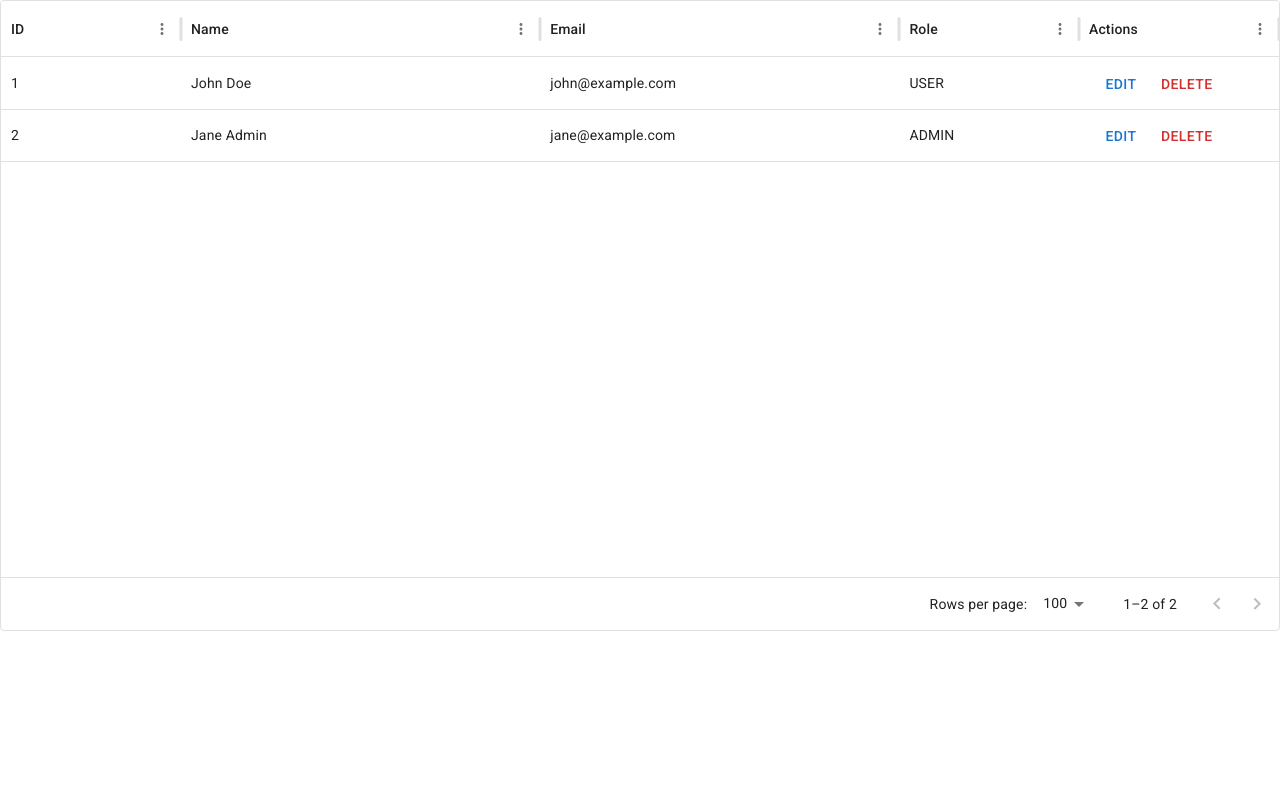
ClientTable › opens delete dialog when Delete button is clicked
The width and height of the screenshot is (1280, 800).
Click the button "Delete" in the row of "John Doe": (1187, 84) [1153,66,1220,102]
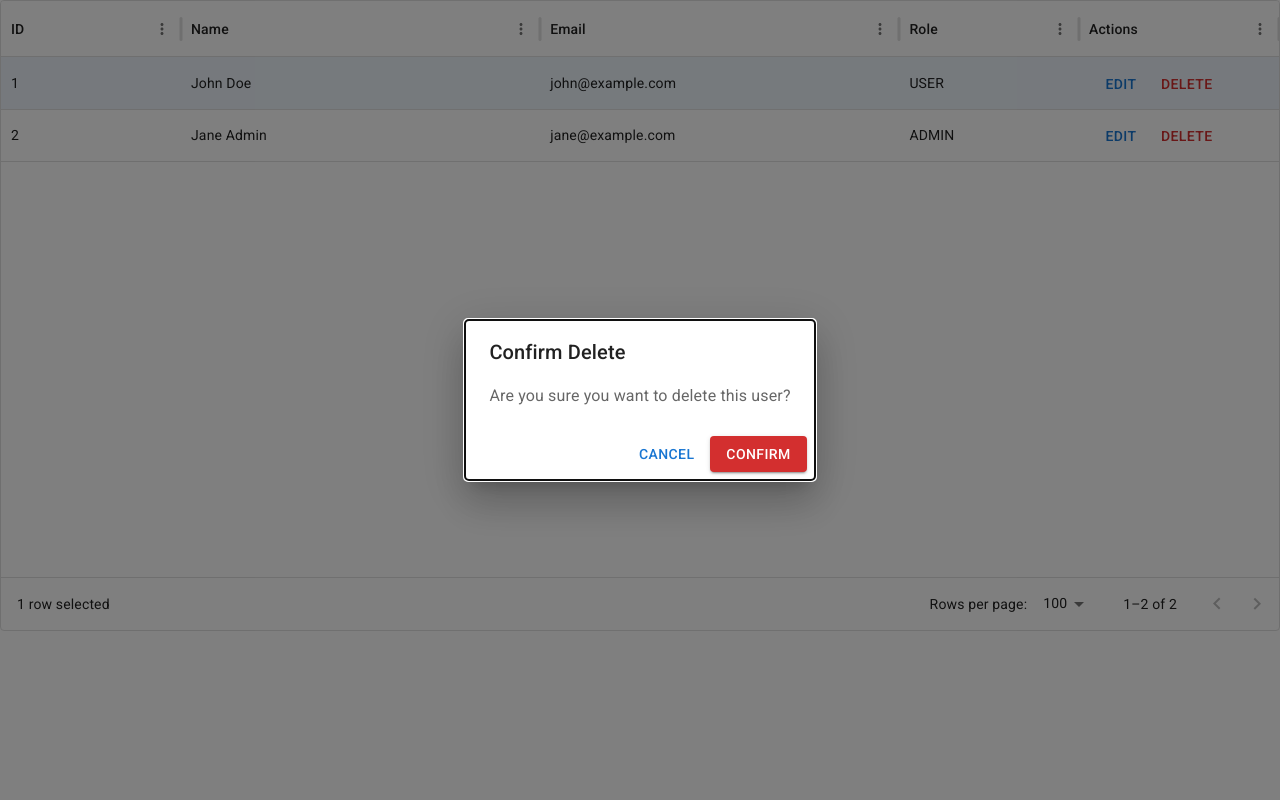
Now the heading "Confirm Delete" is shown, box [489,340,626,364]
Now the text "Are you sure you want to delete this user?" is shown, box [489,384,791,408]
